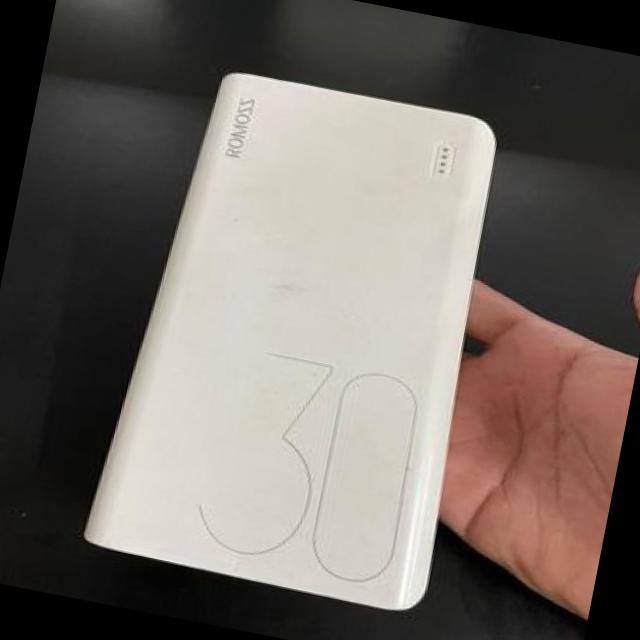power_bank: (69, 39, 545, 633)
